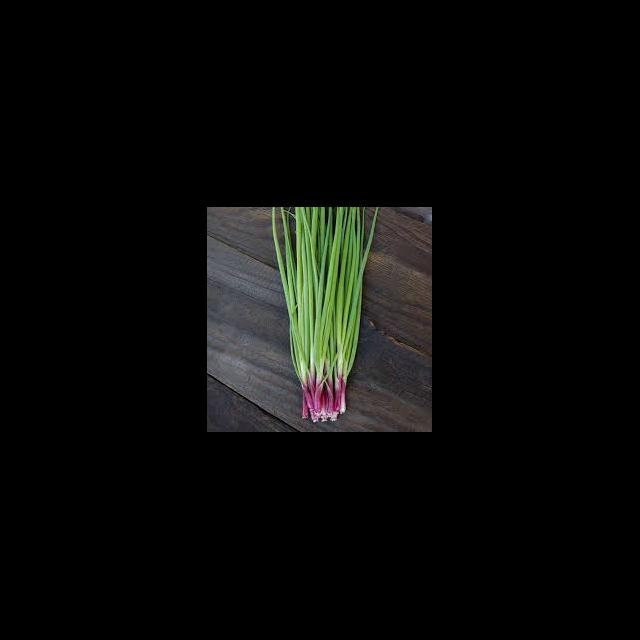green_onion: (266, 208, 383, 366)
